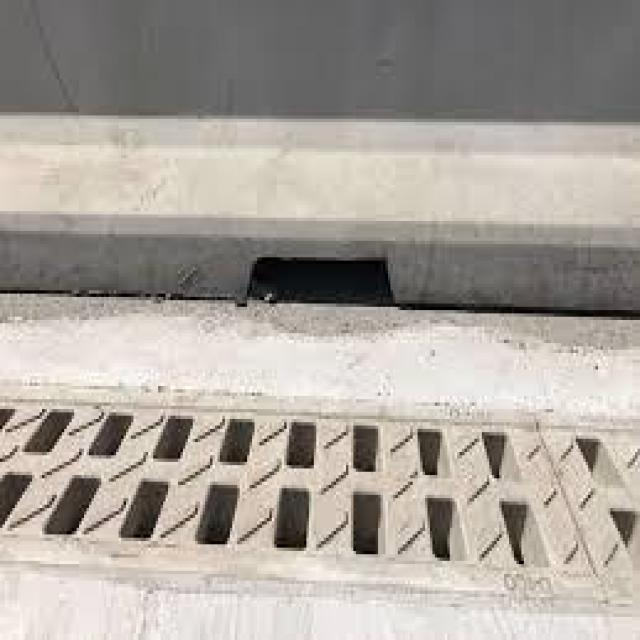curb: (8, 162, 640, 308)
